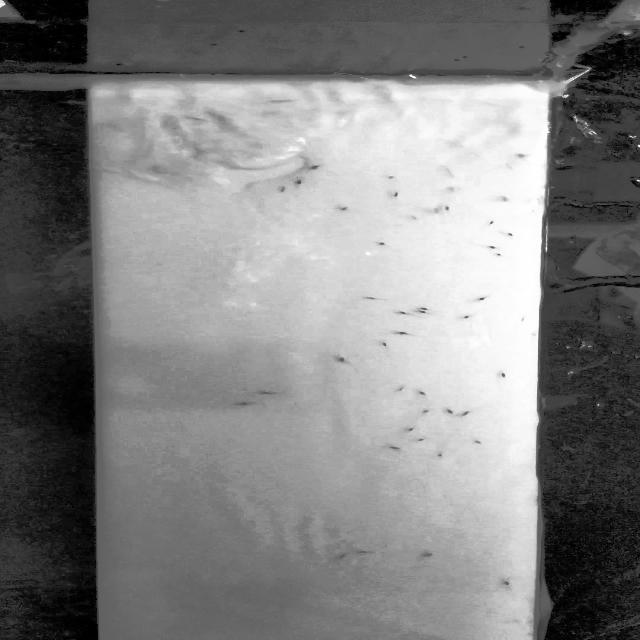shrimp: (374, 190, 403, 206), (392, 328, 423, 340), (326, 550, 352, 562), (390, 441, 411, 453), (376, 173, 406, 181), (441, 166, 457, 180), (351, 548, 373, 558), (333, 204, 355, 214), (307, 162, 329, 172), (497, 577, 513, 589), (291, 176, 307, 188), (411, 436, 432, 444), (358, 294, 386, 300), (381, 341, 396, 352), (428, 451, 451, 458), (474, 241, 497, 248), (419, 550, 439, 558), (396, 310, 415, 318), (403, 426, 421, 434), (332, 356, 350, 364), (458, 409, 474, 418), (461, 312, 475, 322), (476, 293, 496, 300), (277, 183, 289, 194), (503, 228, 516, 238), (466, 436, 482, 444), (258, 390, 279, 396), (440, 406, 452, 416), (483, 220, 497, 228), (233, 402, 260, 406), (419, 306, 436, 312), (498, 370, 508, 380), (443, 202, 453, 212), (395, 384, 407, 392), (416, 310, 432, 316), (418, 388, 429, 395), (421, 408, 429, 415), (375, 242, 387, 246), (495, 252, 503, 256)
